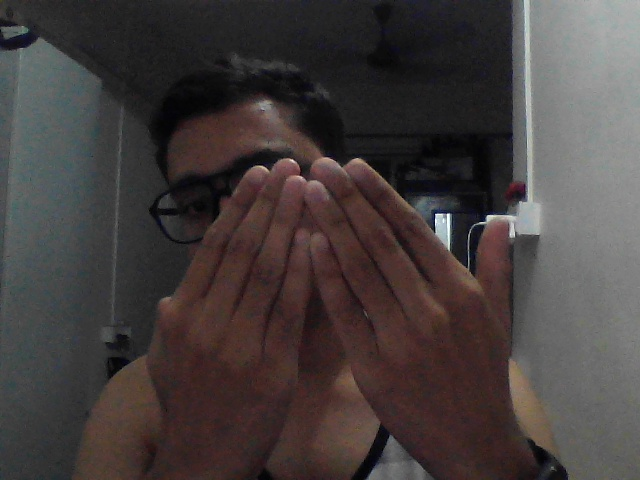Thank You: (119, 127, 581, 480)
